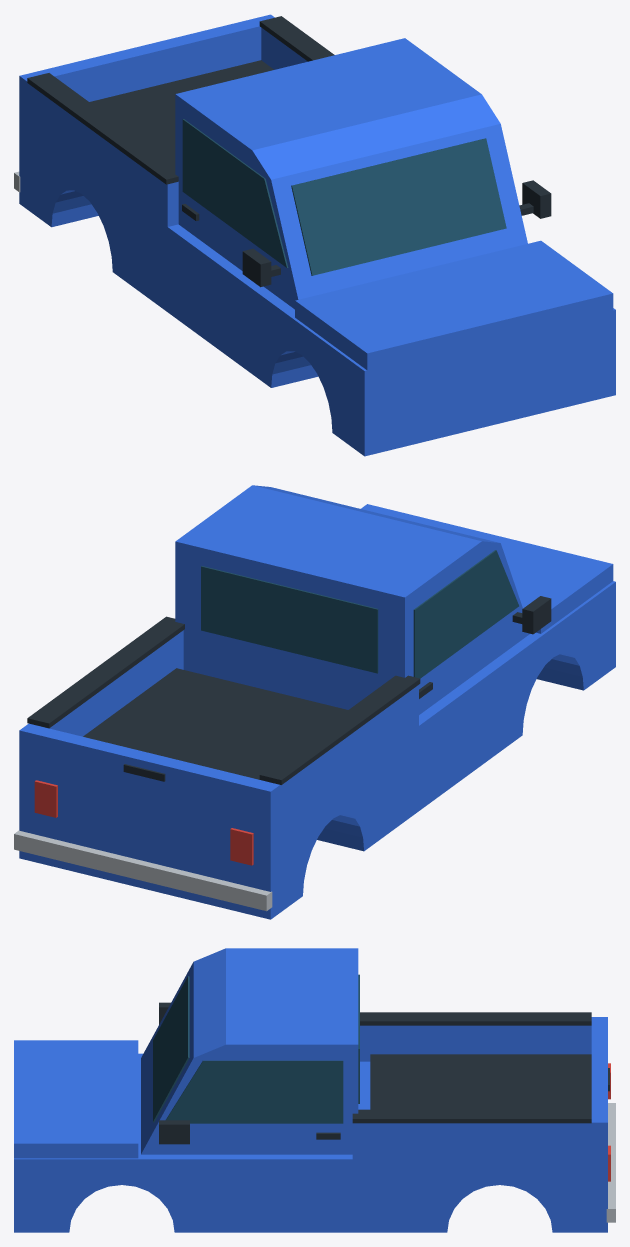
Rendered from pickup.glb.
3 renders of one model, top to bottom at view 1: azimuth 30°, elevation 25°; view 2: azimuth 150°, elevation 25°; view 3: azimuth 270°, elevation 25°, orthographic. The views are drawn at different scales.
Visible parts, largest first — view 1: arch-cut-shell, cab, hood, windshield, tailgate, bed-side (×2), side-window, bed-rail (×2), cargo-floor, mirror (×2); view 2: arch-cut-shell, cab, cargo-floor, tailgate, rear-window, bed-side (×2), bed-rail (×2), side-window, hood, rear-bumper, rear-light (×2), mirror; view 3: arch-cut-shell, cab, bed-side (×2), hood, cargo-floor, side-window, bed-rail (×2), windshield, tailgate, rear-bumper, mirror.
Boxes of the visible parts, x1,y1,x2,y2 form: arch-cut-shell: [19, 118, 615, 456]; cab: [175, 38, 527, 309]; hood: [295, 240, 613, 370]; windshield: [291, 138, 506, 275]; tailgate: [19, 14, 274, 124]; bed-side (×2): [28, 27, 307, 226]; side-window: [182, 119, 288, 267]; bed-rail (×2): [27, 16, 334, 184]; cargo-floor: [89, 60, 273, 164]; mirror (×2): [242, 180, 551, 287]; arch-cut-shell: [19, 581, 615, 919]; cab: [175, 485, 529, 714]; cargo-floor: [83, 668, 347, 779]; tailgate: [19, 723, 280, 834]; rear-window: [201, 566, 378, 673]; bed-side (×2): [49, 630, 418, 826]; bed-rail (×2): [27, 616, 420, 784]; side-window: [413, 550, 518, 678]; hood: [361, 504, 613, 633]; rear-bumper: [14, 830, 272, 911]; rear-light (×2): [34, 780, 253, 865]; mirror: [522, 596, 551, 634]; arch-cut-shell: [14, 1053, 607, 1232]; cab: [141, 948, 358, 1154]; bed-side (×2): [352, 1025, 591, 1159]; hood: [14, 1040, 138, 1158]; cargo-floor: [370, 1054, 591, 1109]; side-window: [166, 1060, 343, 1123]; bed-rail (×2): [352, 1012, 591, 1123]; windshield: [153, 976, 189, 1122]; tailgate: [591, 1017, 607, 1159]; rear-bumper: [606, 1103, 615, 1222]; mirror: [159, 1120, 189, 1144].
Size of the model in its own units: 2.14 by 1.5 by 4.46.
